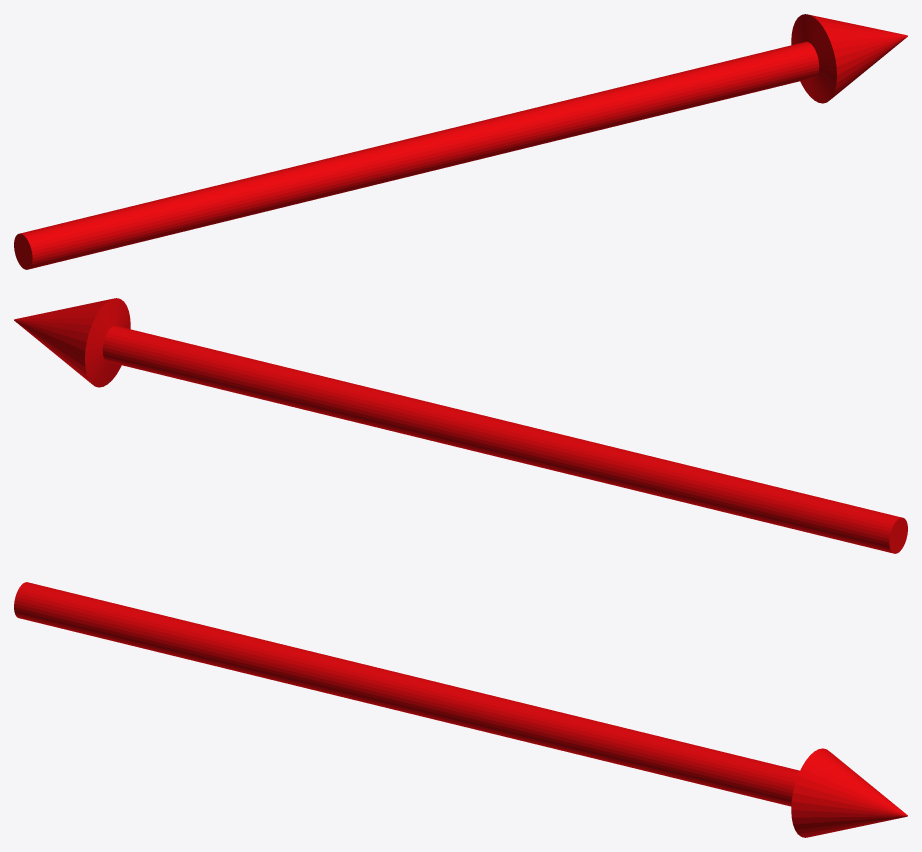
File: eixo_x.fbx
3 renders of one model, top to bottom at view 1: azimuth 30°, elevation 25°; view 2: azimuth 150°, elevation 25°; view 3: azimuth 330°, elevation 25°, orthographic.
Parts seen in each view (by area): view 1: Cylinder; view 2: Cylinder; view 3: Cylinder.
Boxes of the visible parts, <box> form: Cylinder: <box>14,14,907,269</box>; Cylinder: <box>14,298,907,553</box>; Cylinder: <box>14,582,907,837</box>.
Size of the model in its own units: 988 by 88.67 by 88.67.
